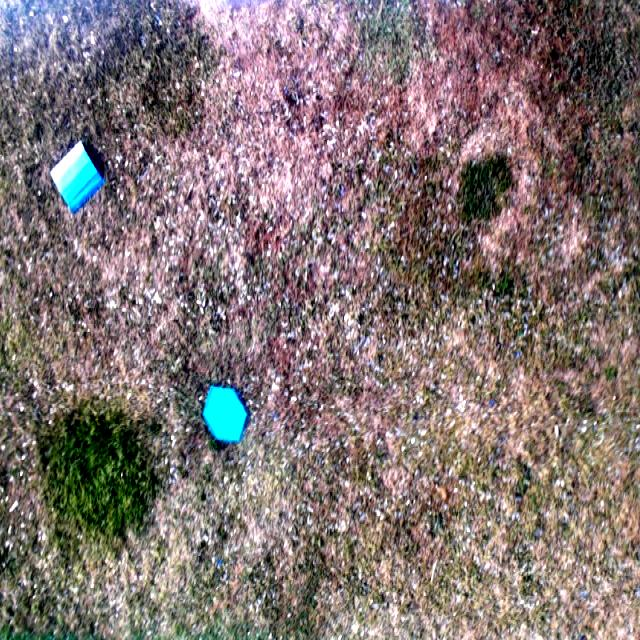blue_hexagon: (202, 384, 247, 444)
blue_square: (48, 142, 105, 215)
